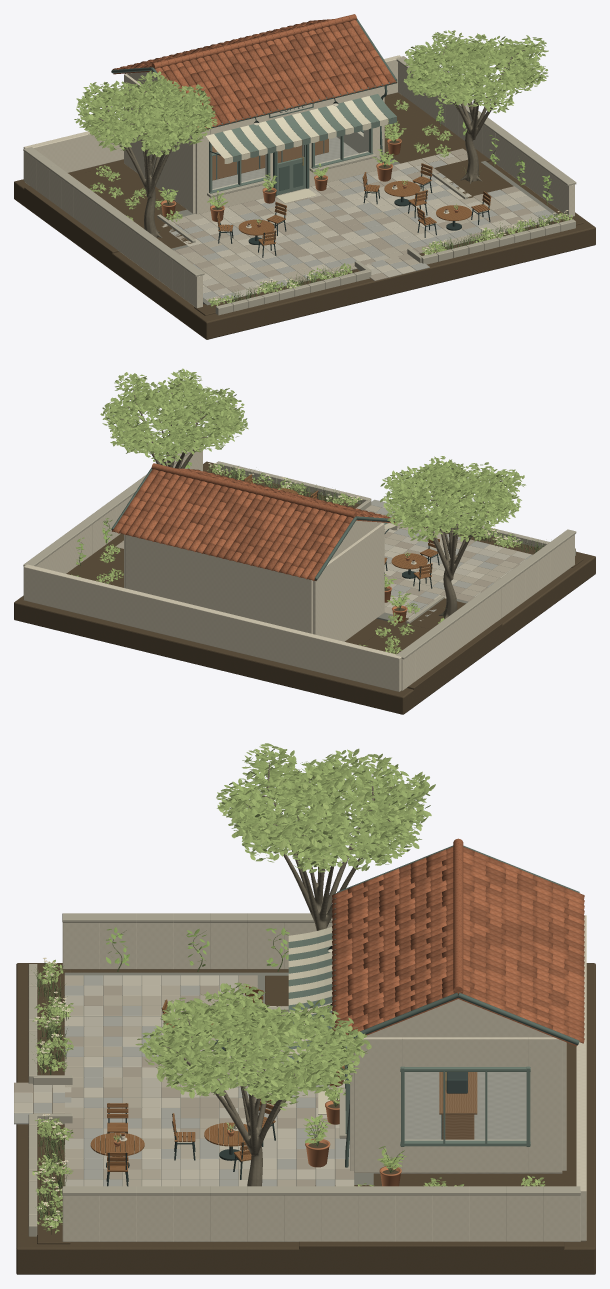
File: cafe_courtyard.glb
3 views of the same model, one above another, from view 1: azimuth 30°, elevation 25°; view 2: azimuth 150°, elevation 25°; view 3: azimuth 270°, elevation 25° (orthographic). The views are drawn at different scales.
Parts seen in each view (by area): view 1: Earth_Substrate, SideGarden_Soil.001, RearGardenWall, SideGarden_Soil, WestWall, ContinuousCourtyardTrunk_1, Courtyard_GroutFoundation, TreeBed_Soil.001, Counter_Body, Glass_Front_1, ContinuousCourtyardTrunk_2, Glass_Front_2 (+22 smaller); view 2: RearGardenWall, Earth_Substrate, BackWall, WestWall, SideGarden_Soil, SideGarden_Soil.001, ContinuousCourtyardTrunk_1, CurvedBorderGrasses, Gable_-1, TreeBed_Soil, CrownClump_2_6_3, CrownClump_1_4_3 (+8 smaller); view 3: Earth_Substrate, Glass_East, Cafe_Floor, EastWallSegment, EastWallSegment.001, Gable_1, EastWallSegment.003, EastWallSegment.002, Courtyard_GroutFoundation, SideGarden_Soil.001, CurvedBorderGrasses, RearGardenWall (+61 smaller).
Part boxes in pixels (box(x1,y1,x2,y2)): Earth_Substrate: box(14, 92, 595, 339); SideGarden_Soil.001: box(384, 95, 491, 174); RearGardenWall: box(23, 55, 401, 180); SideGarden_Soil: box(24, 168, 187, 254); WestWall: box(124, 74, 195, 213); ContinuousCourtyardTrunk_1: box(109, 106, 171, 237); Courtyard_GroutFoundation: box(171, 159, 562, 305); TreeBed_Soil.001: box(436, 161, 513, 198); Counter_Body: box(212, 136, 328, 180); Glass_Front_1: box(213, 147, 266, 189); ContinuousCourtyardTrunk_2: box(446, 58, 511, 183); Glass_Front_2: box(315, 130, 368, 164); RearGardenWall: box(23, 564, 401, 691); Earth_Substrate: box(14, 461, 595, 714); BackWall: box(125, 535, 312, 633); WestWall: box(313, 523, 384, 641); SideGarden_Soil: box(361, 606, 502, 690); SideGarden_Soil.001: box(66, 533, 123, 587); ContinuousCourtyardTrunk_1: box(420, 491, 483, 618); CurvedBorderGrasses: box(223, 466, 544, 617); Gable_-1: box(330, 520, 381, 560); TreeBed_Soil: box(409, 598, 465, 629); CrownClump_2_6_3: box(114, 372, 149, 397); CrownClump_1_4_3: box(491, 469, 525, 493); Earth_Substrate: box(16, 963, 595, 1274); Glass_East: box(405, 1072, 525, 1140); Cafe_Floor: box(373, 1072, 562, 1173); EastWallSegment: box(354, 1037, 402, 1172); EastWallSegment.001: box(528, 1037, 562, 1172); Gable_1: box(366, 999, 553, 1037); EastWallSegment.003: box(402, 1037, 528, 1066); EastWallSegment.002: box(402, 1139, 528, 1172); Courtyard_GroutFoundation: box(64, 972, 373, 1185); SideGarden_Soil.001: box(299, 1185, 564, 1250); CurvedBorderGrasses: box(31, 967, 68, 1221); RearGardenWall: box(576, 915, 586, 1241).
Size of the model in its own units: 15.46 by 5.74 by 12.05.
Materials: 33 (12 with a texture image).
